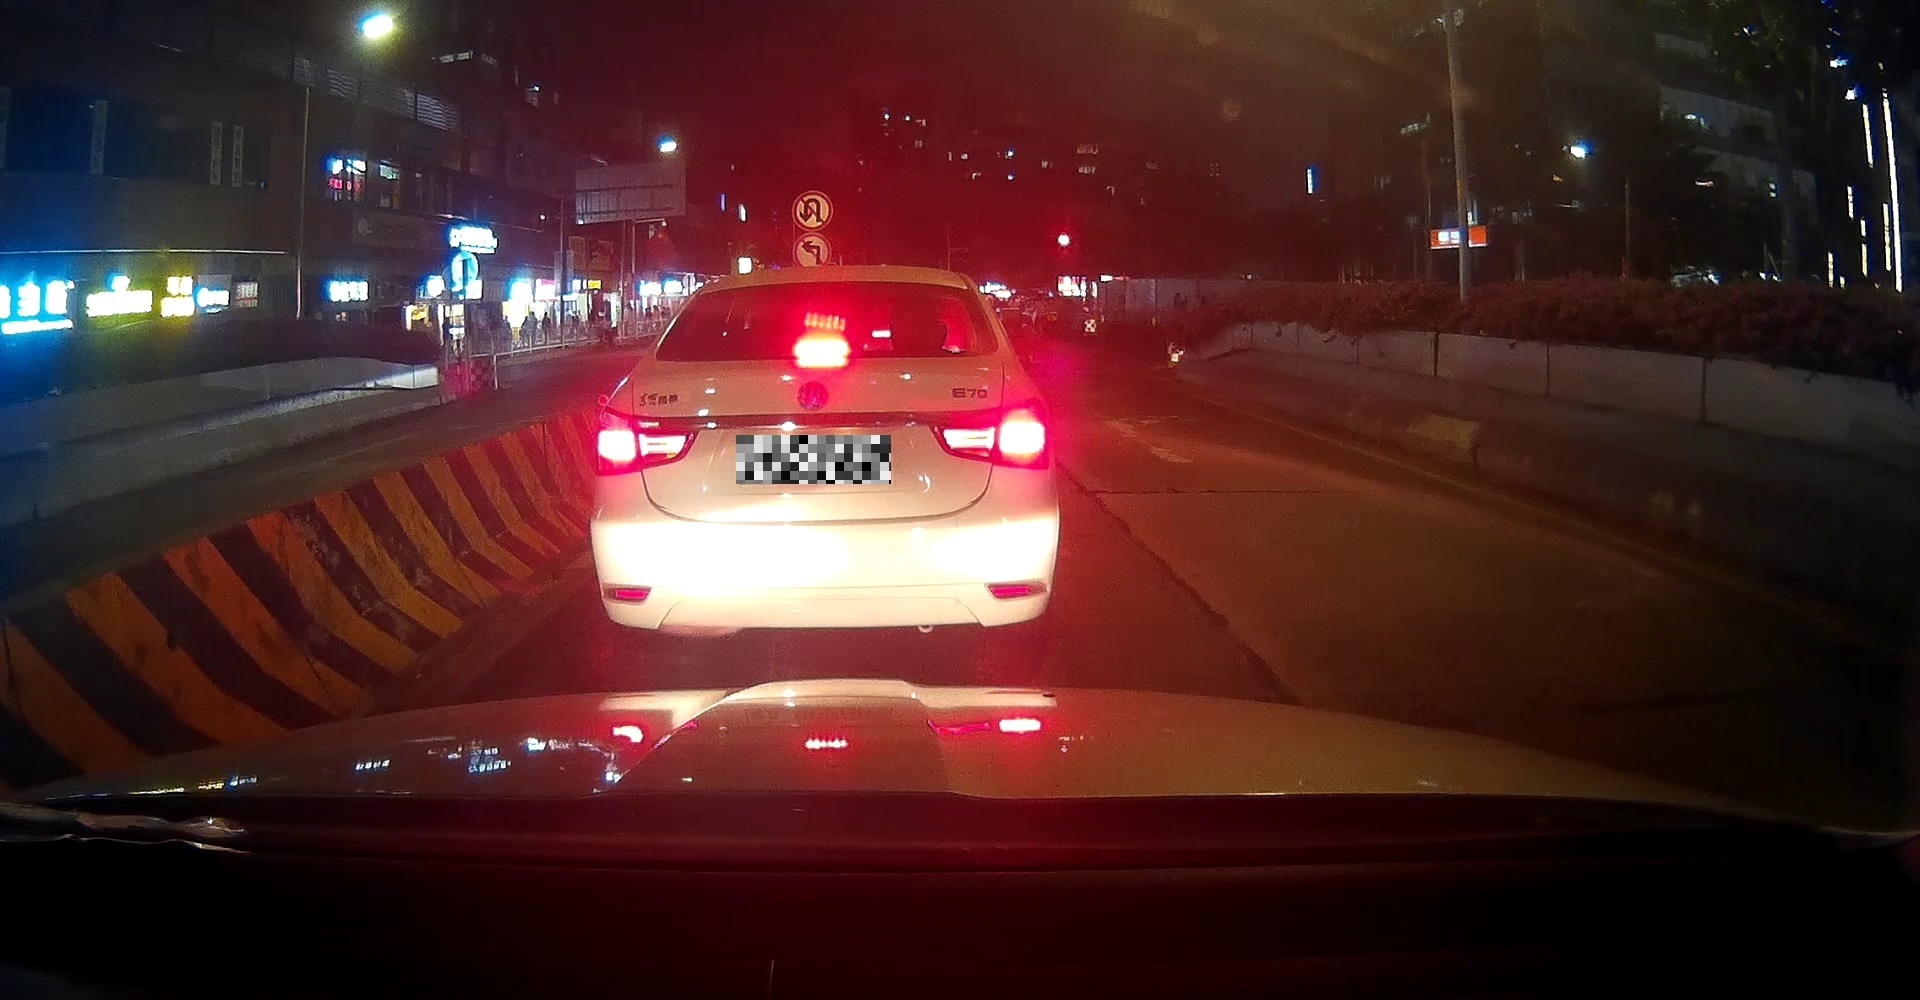L_light: (590, 405, 701, 477)
R_light: (927, 398, 1050, 470)
T_light: (792, 338, 851, 358)
night-brake: (588, 266, 1057, 673)
plate_1: (737, 435, 891, 484)
